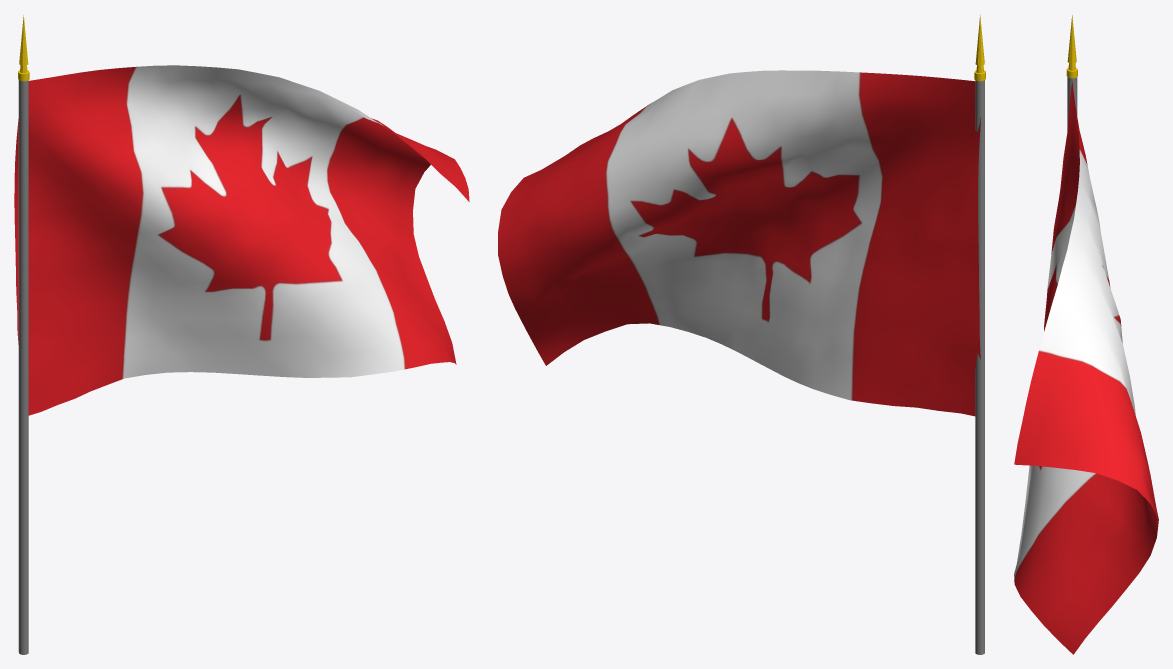
Rendered from caflag.glb.
3 views of the same model, side by side, from view 1: azimuth 30°, elevation 25°; view 2: azimuth 150°, elevation 25°; view 3: azimuth 270°, elevation 25° (orthographic). The views are drawn at different scales.
Parts seen in each view (by area): view 1: Flag ShapeKeys_2_4, pCylinder358; view 2: Flag ShapeKeys_2_4, pCylinder358; view 3: Flag ShapeKeys_2_4, pCylinder358.
Boxes of the visible parts, box(x1,y1,x2,y2) form: Flag ShapeKeys_2_4: box(14, 65, 469, 415); pCylinder358: box(18, 15, 29, 654); Flag ShapeKeys_2_4: box(498, 70, 980, 416); pCylinder358: box(974, 15, 985, 654); Flag ShapeKeys_2_4: box(1014, 82, 1158, 654); pCylinder358: box(1066, 15, 1077, 131).
Size of the model in its own units: 2.81 by 3.8 by 0.8164.
3 materials, 1 textured.
